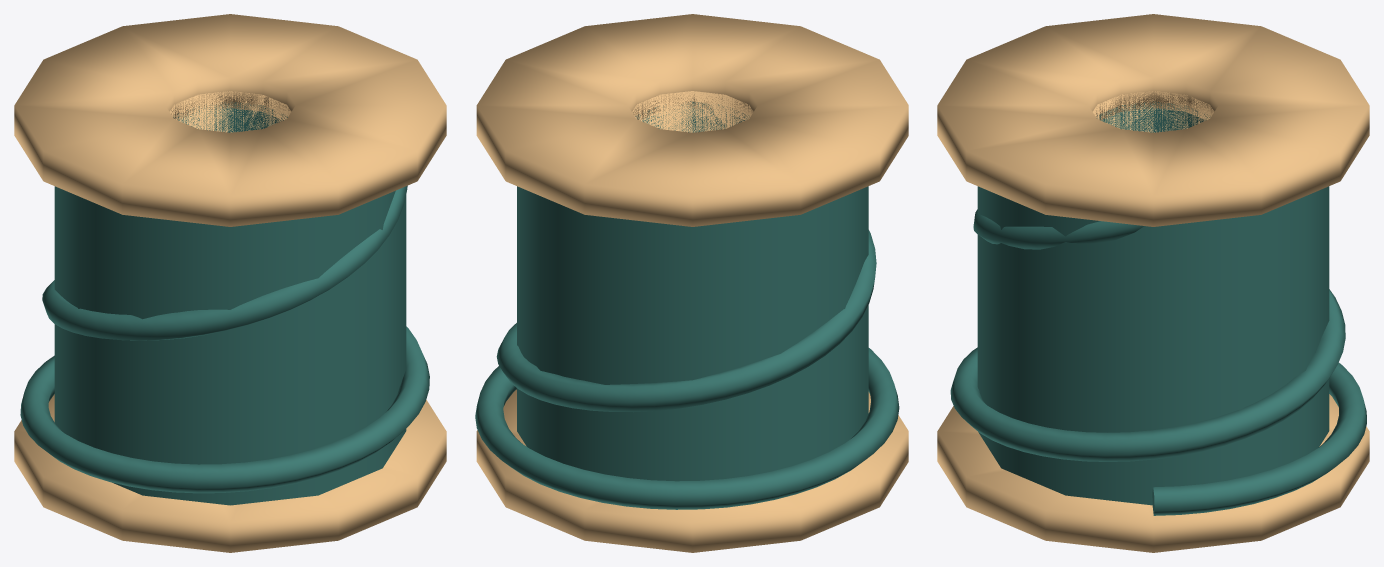
Rendered from bobine.fbx.
3 views of the same model, side by side, from view 1: azimuth 30°, elevation 25°; view 2: azimuth 150°, elevation 25°; view 3: azimuth 270°, elevation 25° (orthographic).
Visible parts, largest first — view 1: bobine, Tube, Sweep NURBS; view 2: bobine, Tube, Sweep NURBS; view 3: bobine, Tube, Sweep NURBS.
Part boxes in pixels (bbox=[...]): bobine: bbox=[14, 14, 446, 552]; Tube: bbox=[54, 102, 406, 505]; Sweep NURBS: bbox=[20, 185, 429, 493]; bobine: bbox=[476, 14, 908, 552]; Tube: bbox=[517, 101, 868, 481]; Sweep NURBS: bbox=[475, 230, 899, 509]; bobine: bbox=[937, 14, 1369, 552]; Tube: bbox=[977, 101, 1329, 505]; Sweep NURBS: bbox=[950, 209, 1366, 515].
Bounding box in the file's own units: 241 × 218 × 240.
1 material, 1 textured.
